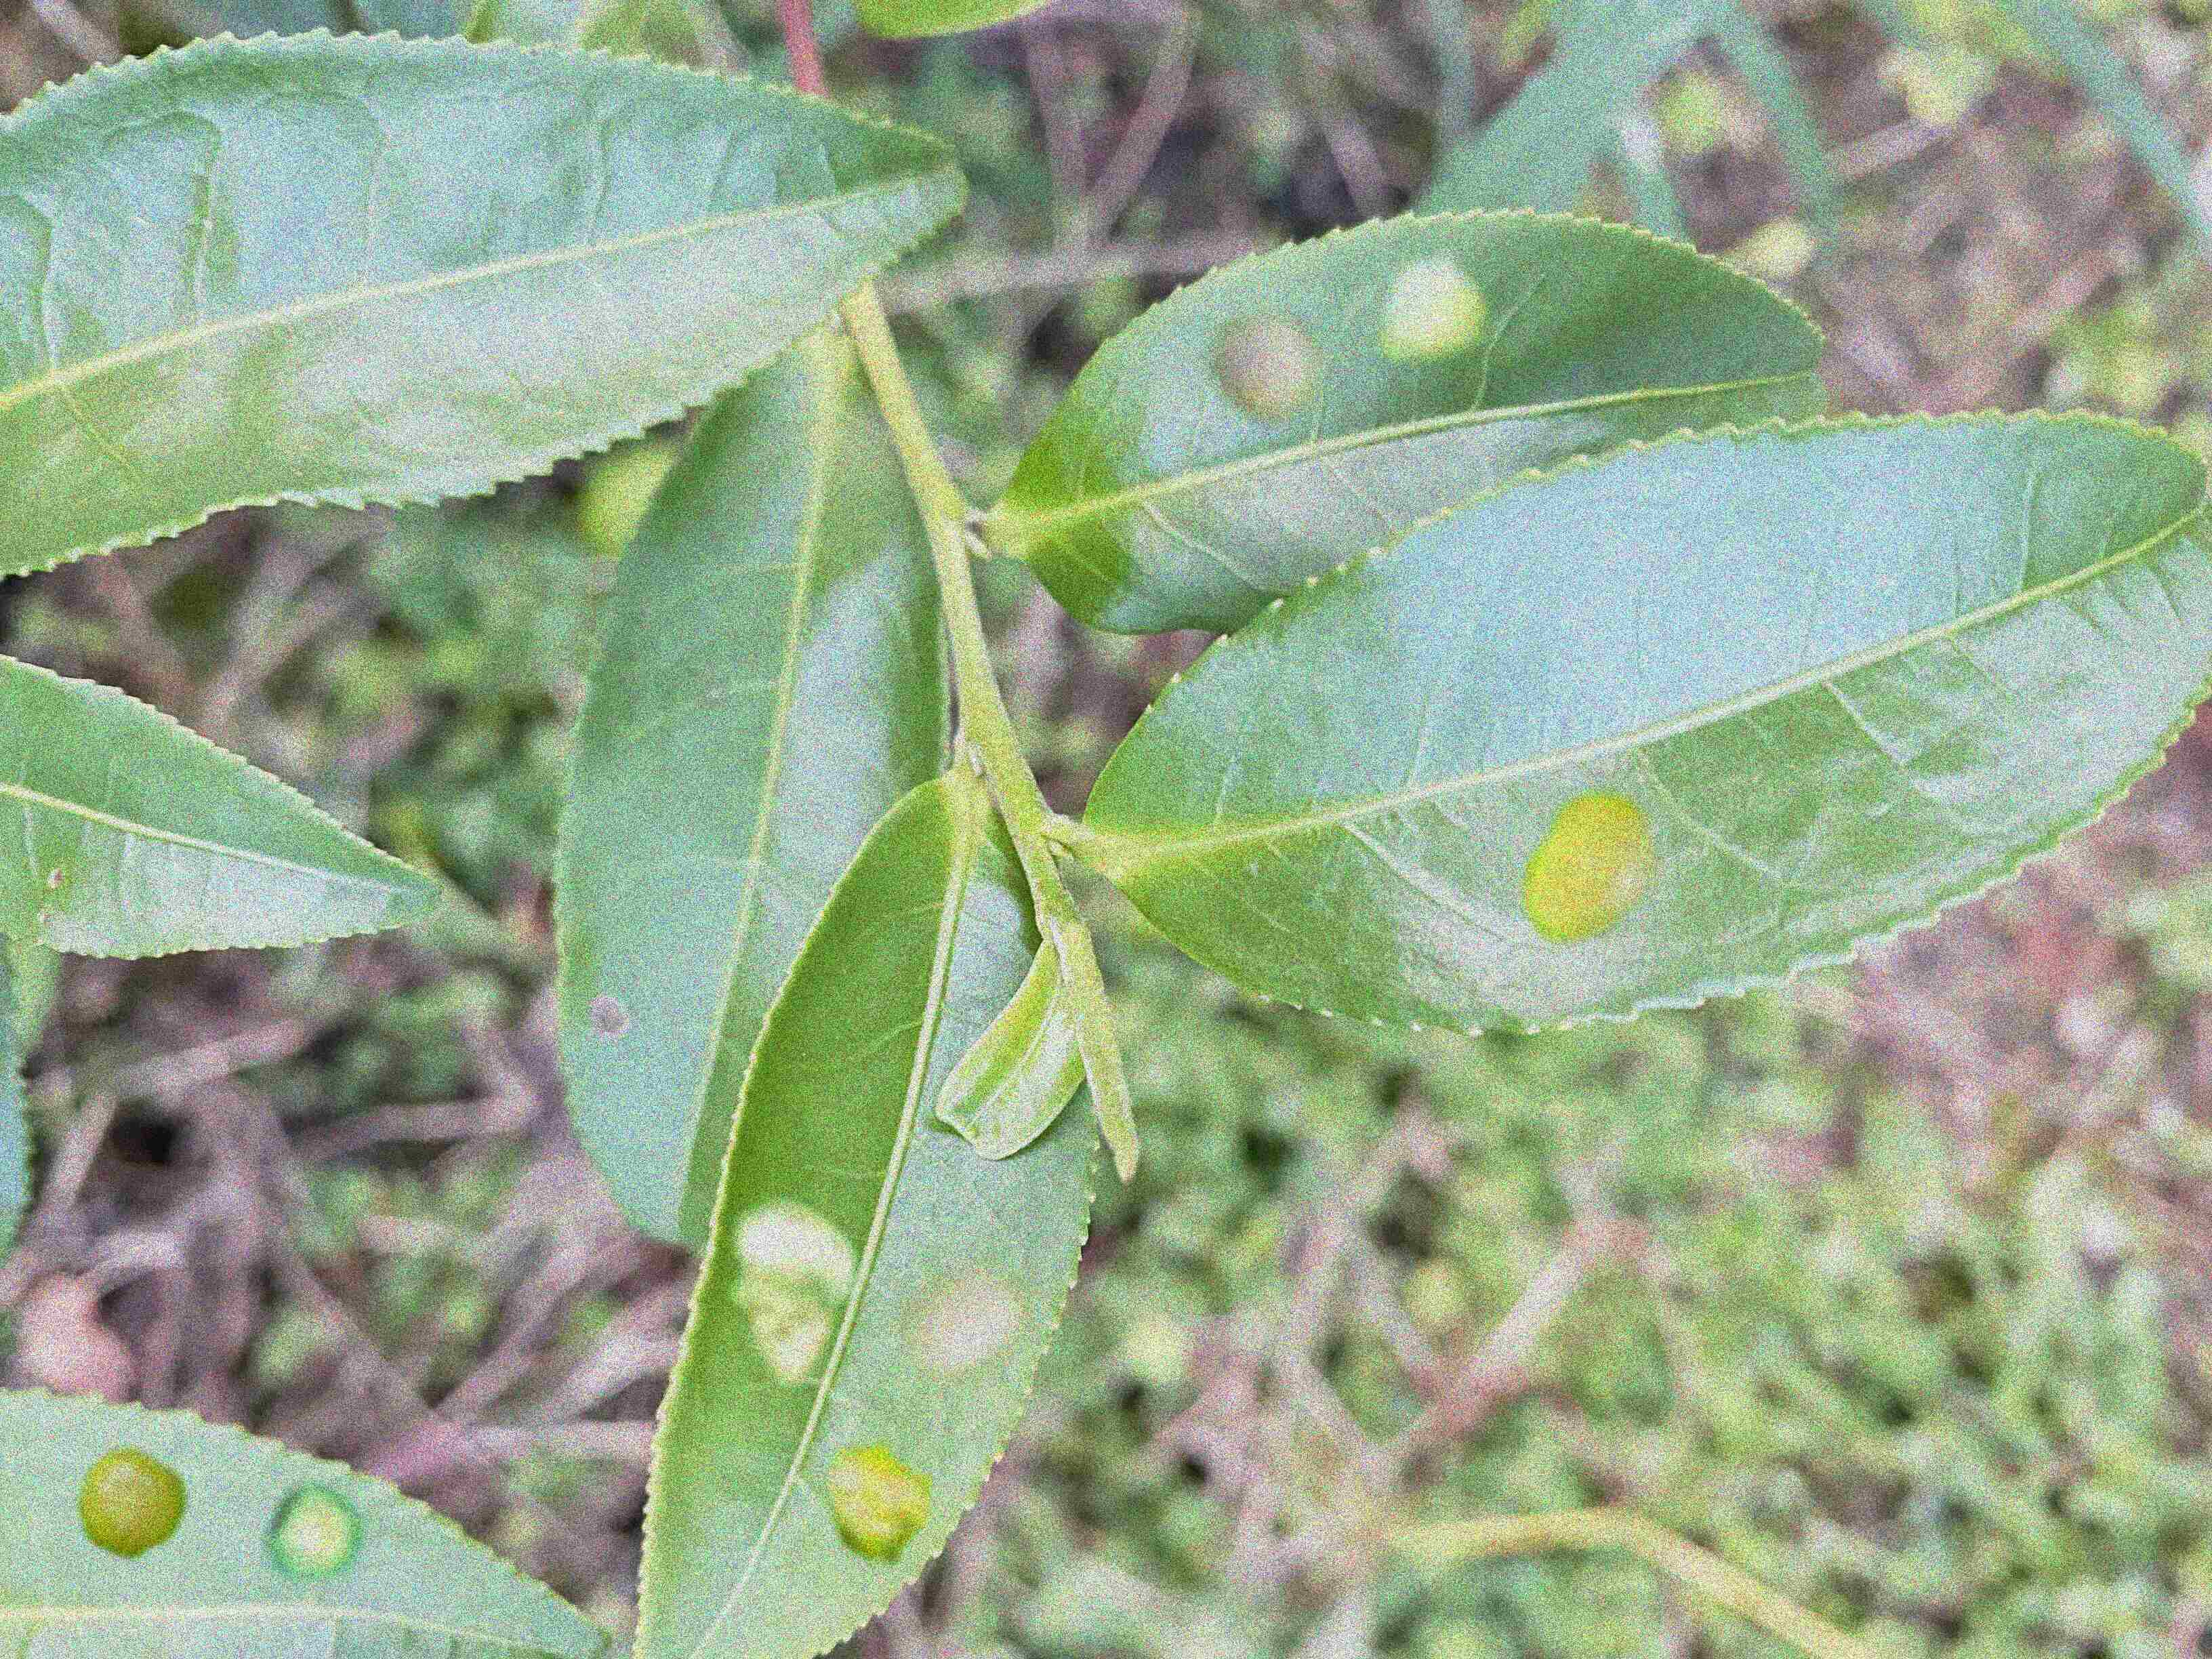chabing_high: (632, 774, 1106, 1657), (1019, 206, 1829, 634), (2, 1384, 615, 1659)
chabing_low: (1092, 411, 2210, 1037)
chihuo_low: (550, 315, 951, 1248)
healthy: (5, 28, 968, 577)
